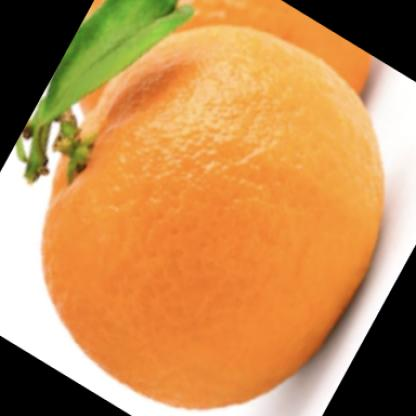fresh: (43, 27, 385, 408)
